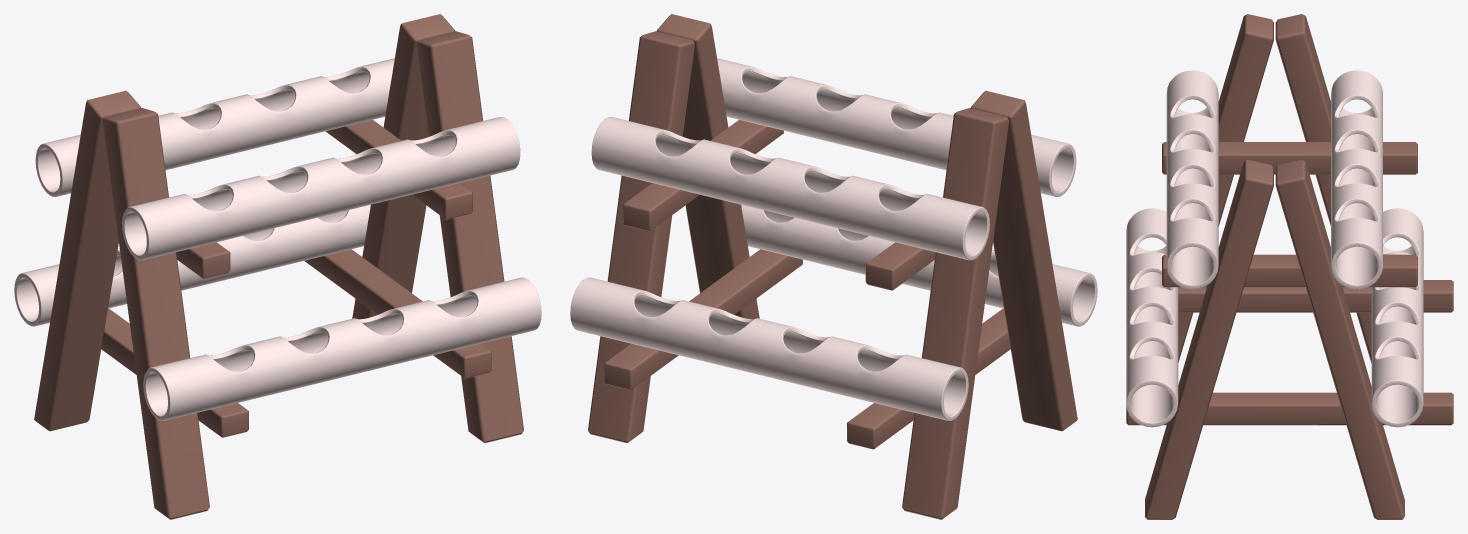
The model's file is Farm_20_Stand_for_Plants_2.glb.
3 renders of one model, left to right at view 1: azimuth 30°, elevation 25°; view 2: azimuth 150°, elevation 25°; view 3: azimuth 270°, elevation 25°, orthographic. The views are drawn at different scales.
Parts seen in each view (by area): view 1: Farm_20_Stand_for_Plants_2; view 2: Farm_20_Stand_for_Plants_2; view 3: Farm_20_Stand_for_Plants_2.
Part boxes in pixels (left/top/right/bottom): Farm_20_Stand_for_Plants_2: left=14, top=14, right=541, bottom=519; Farm_20_Stand_for_Plants_2: left=570, top=14, right=1097, bottom=519; Farm_20_Stand_for_Plants_2: left=1126, top=14, right=1453, bottom=519.
Size of the model in its own units: 1.97 by 1.83 by 1.58.
Materials: 1 (1 with a texture image).
